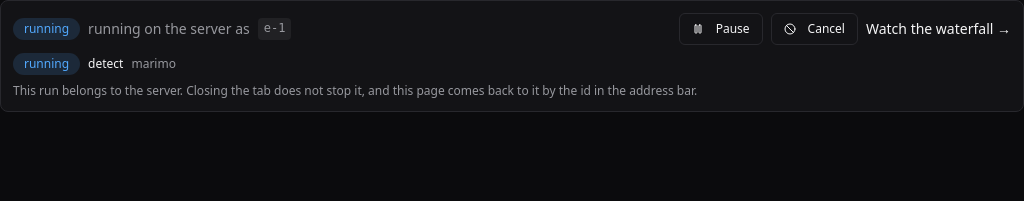
it: reading a step's log › says an instance keeps no artifacts rather than showing the step printed nothing
The image size is (1024, 201).
Click the button "running detect marimo": (47, 64) x1=13 y1=53 x2=1011 y2=75
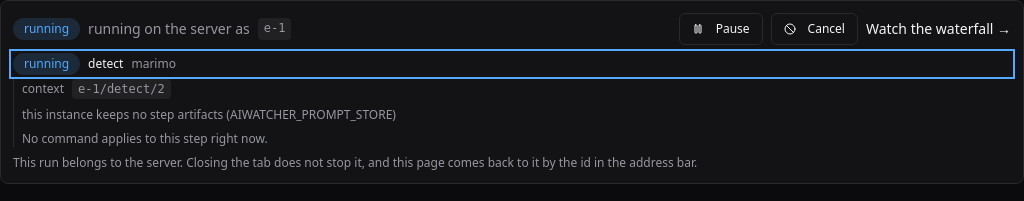
Result: the text "AIWATCHER_PROMPT_STORE" is shown at x1=22 y1=106 x2=396 y2=123
